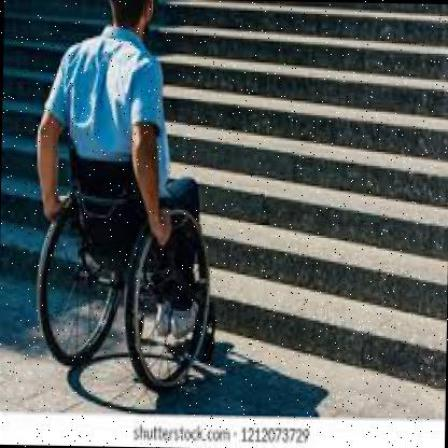wheel: (32, 0, 224, 388)
